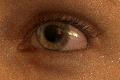eye: (38, 24, 68, 50)
